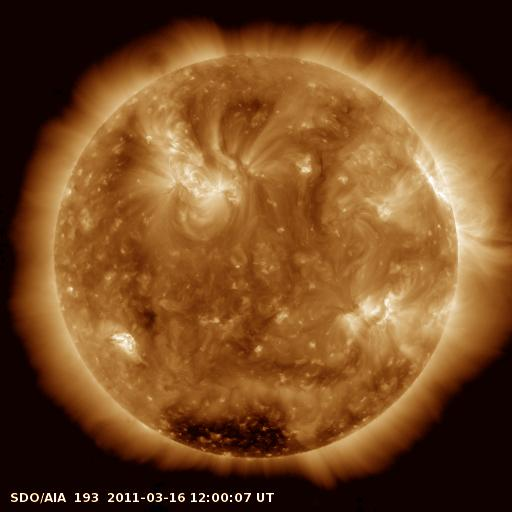coronal_hole: (154, 404, 300, 457)
